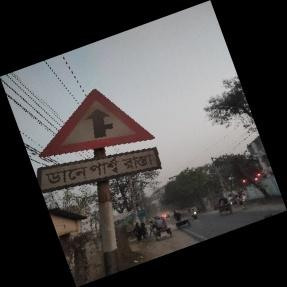Side-road-right: (37, 89, 158, 191)
